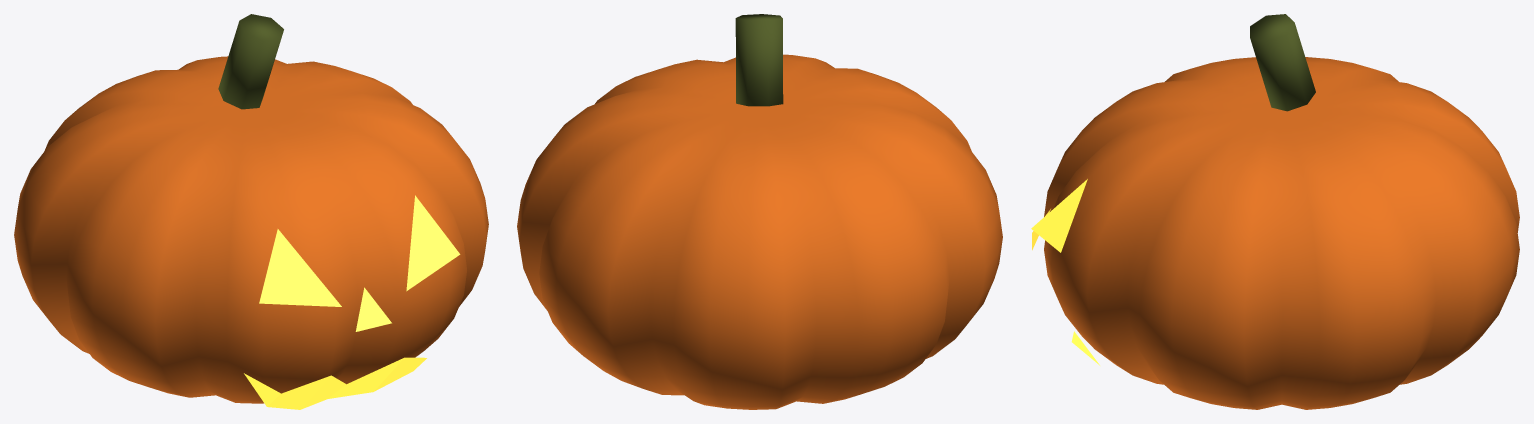
Rendered from jack-o-lantern-0.glb.
3 views of the same model, side by side, from view 1: azimuth 30°, elevation 25°; view 2: azimuth 150°, elevation 25°; view 3: azimuth 270°, elevation 25° (orthographic). The views are drawn at different scales.
Visible parts, largest first — view 1: jack-o-lantern; view 2: jack-o-lantern; view 3: jack-o-lantern.
Part boxes in pixels (<box>): jack-o-lantern: <box>14,14,488,409</box>; jack-o-lantern: <box>517,14,1002,409</box>; jack-o-lantern: <box>1031,14,1519,409</box>.
Bounding box in the file's own units: 0.8827 × 0.694 × 0.9065.
